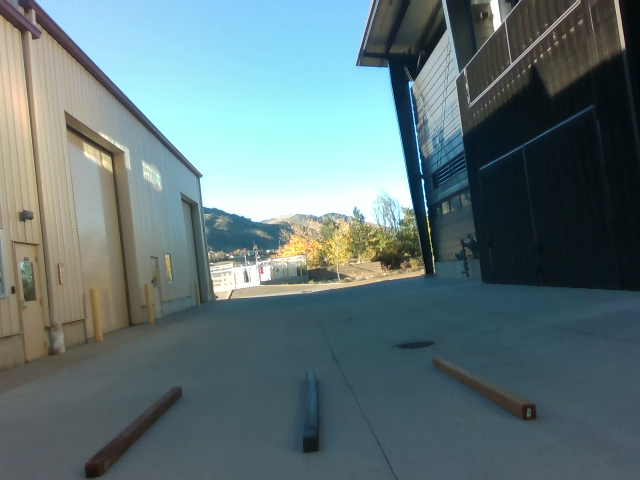dunnage: (77, 339, 547, 480)
